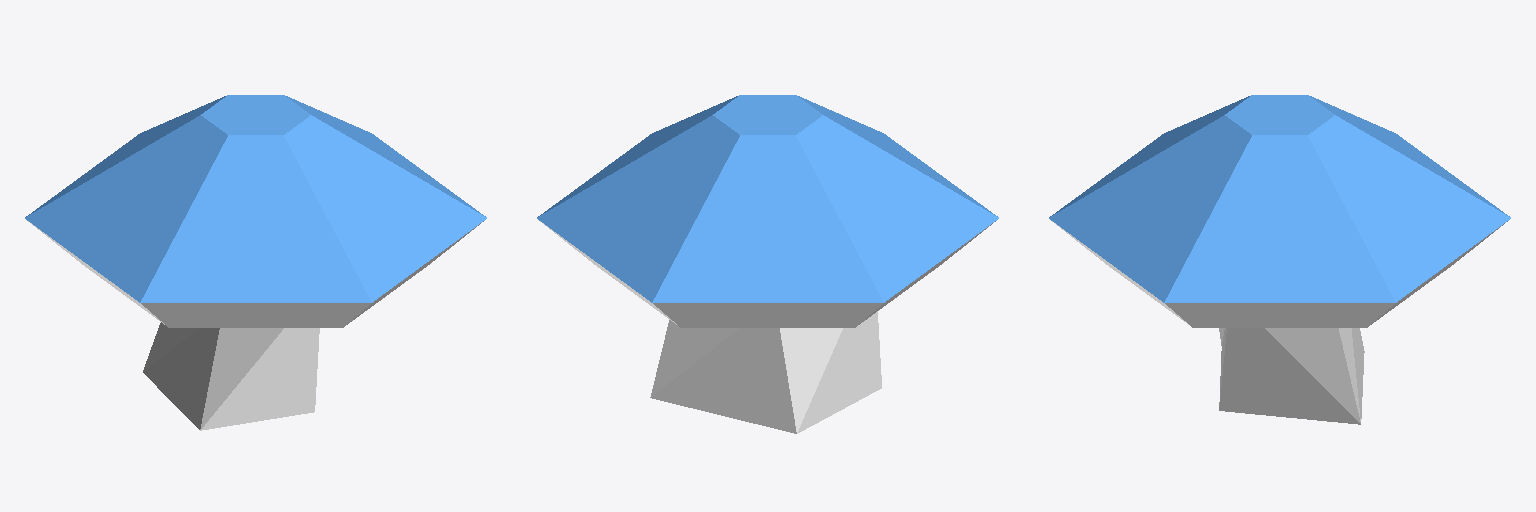
File: Mitternachtspilz.obj
3 renders of one model, left to right at view 1: azimuth 30°, elevation 25°; view 2: azimuth 150°, elevation 25°; view 3: azimuth 270°, elevation 25°, orthographic.
Parts seen in each view (by area): view 1: mushroom_blue; view 2: mushroom_blue; view 3: mushroom_blue.
Part boxes in pixels (bbox=[...]): mushroom_blue: bbox=[25, 95, 486, 430]; mushroom_blue: bbox=[537, 95, 998, 433]; mushroom_blue: bbox=[1049, 95, 1510, 424].
Bounding box in the file's own units: 191 × 148 × 221.